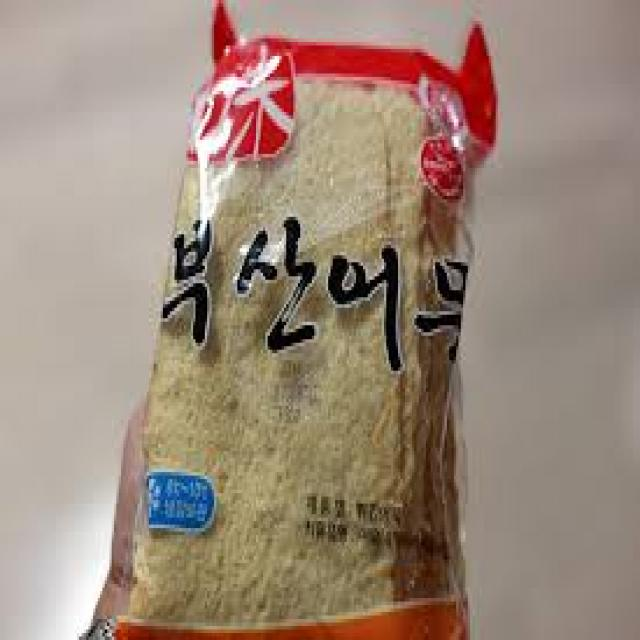fish_cake: (126, 14, 486, 636)
